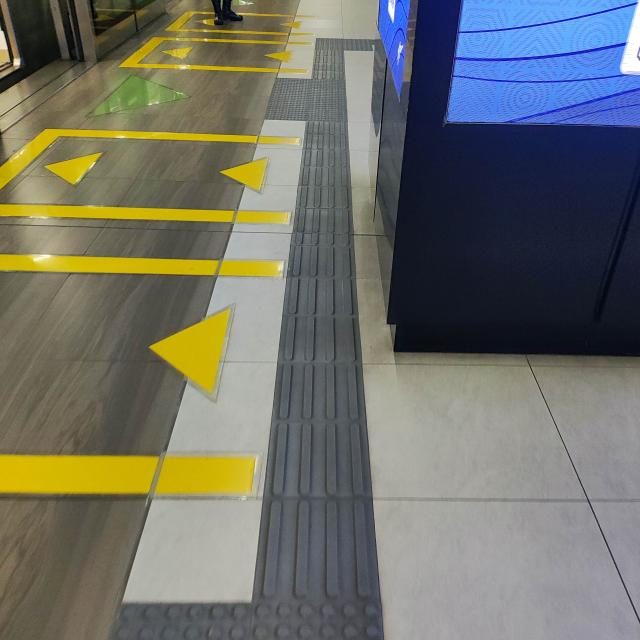lurus: (274, 124, 374, 639)
